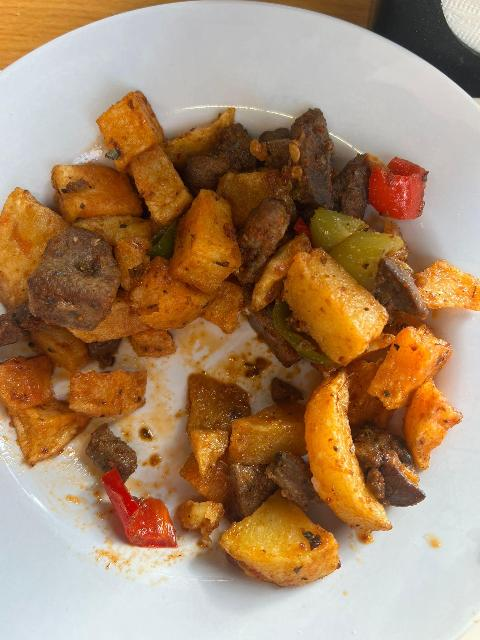Organik: (316, 384, 383, 531), (291, 252, 388, 353), (223, 494, 338, 575), (33, 231, 123, 325), (309, 194, 395, 277), (173, 191, 239, 294), (98, 91, 162, 164), (61, 375, 150, 420), (103, 481, 172, 539), (362, 162, 428, 208)
